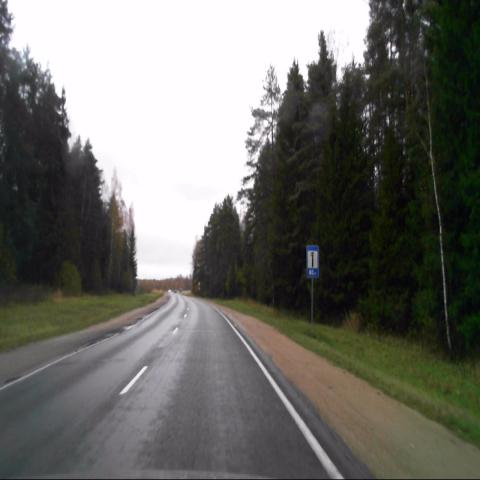7_4: (306, 244, 319, 279)
